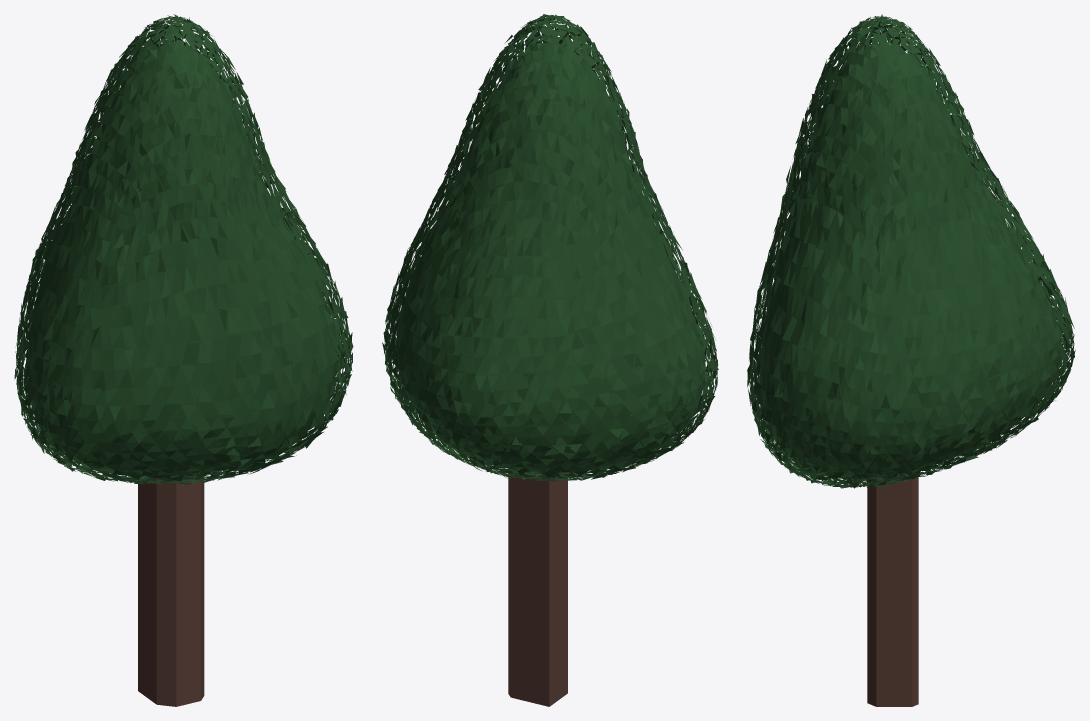
File: ThinTree.fbx
3 views of the same model, side by side, from view 1: azimuth 30°, elevation 25°; view 2: azimuth 150°, elevation 25°; view 3: azimuth 270°, elevation 25° (orthographic).
Visible parts, largest first — view 1: ThinTree.001; view 2: ThinTree.001; view 3: ThinTree.001.
Boxes of the visible parts, x1,y1,x2,y2 form: ThinTree.001: (14, 14, 353, 706); ThinTree.001: (382, 14, 718, 706); ThinTree.001: (747, 14, 1075, 706).
Bounding box in the file's own units: 87.51 × 187 × 82.42.
